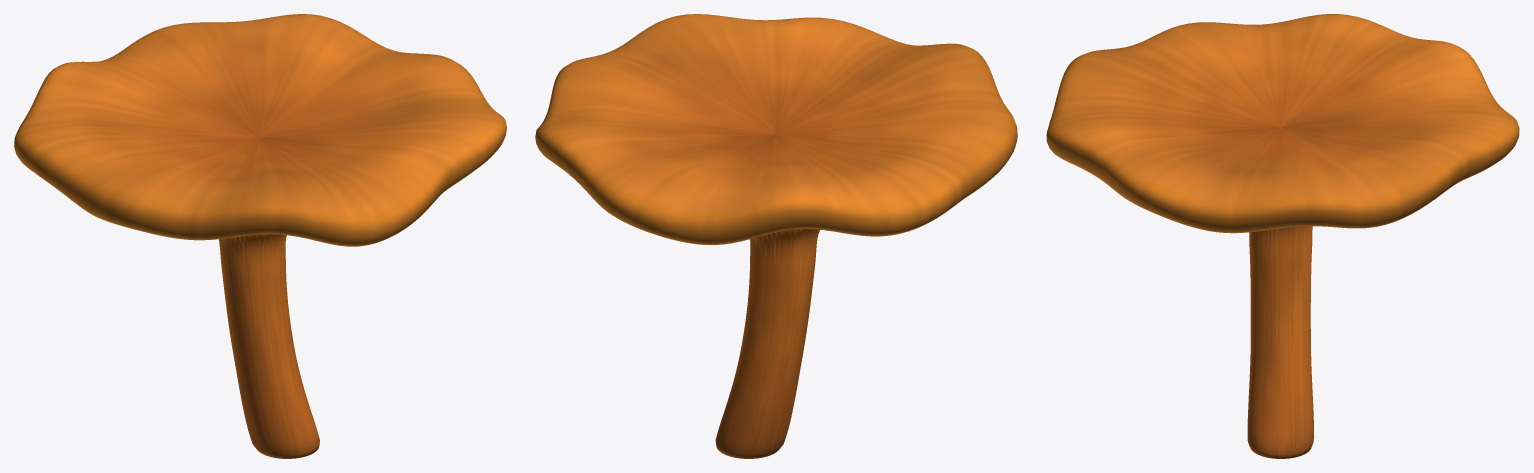
Rendered from hygrophoropsis-aurantiaca.glb.
The picture shows the model from 3 angles, left to right: view 1: azimuth 30°, elevation 25°; view 2: azimuth 150°, elevation 25°; view 3: azimuth 270°, elevation 25°; orthographic projection. The views are drawn at different scales.
Size of the model in its own units: 0.9162 by 0.7418 by 0.9409.
1 material, 1 textured.
